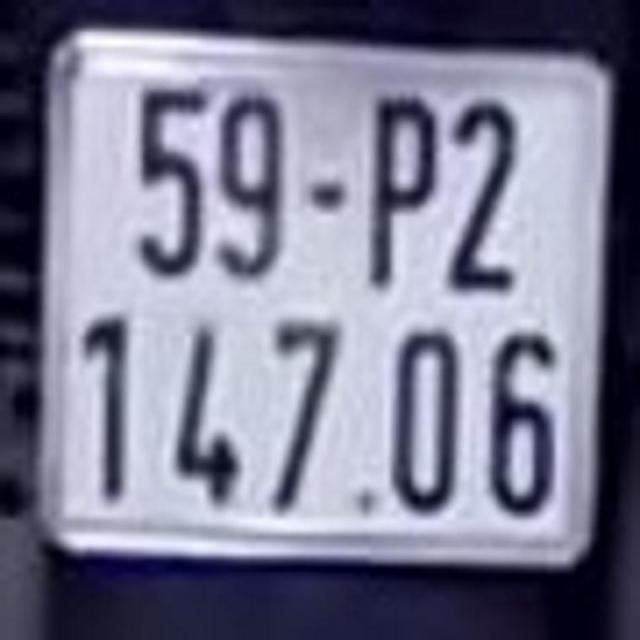0: (386, 300, 466, 522)
1: (67, 303, 164, 507)
2: (444, 82, 526, 292)
4: (169, 298, 247, 511)
5: (126, 63, 208, 280)
6: (487, 310, 564, 540)
7: (266, 284, 345, 506)
9: (209, 67, 295, 276)
P: (357, 87, 438, 292)
